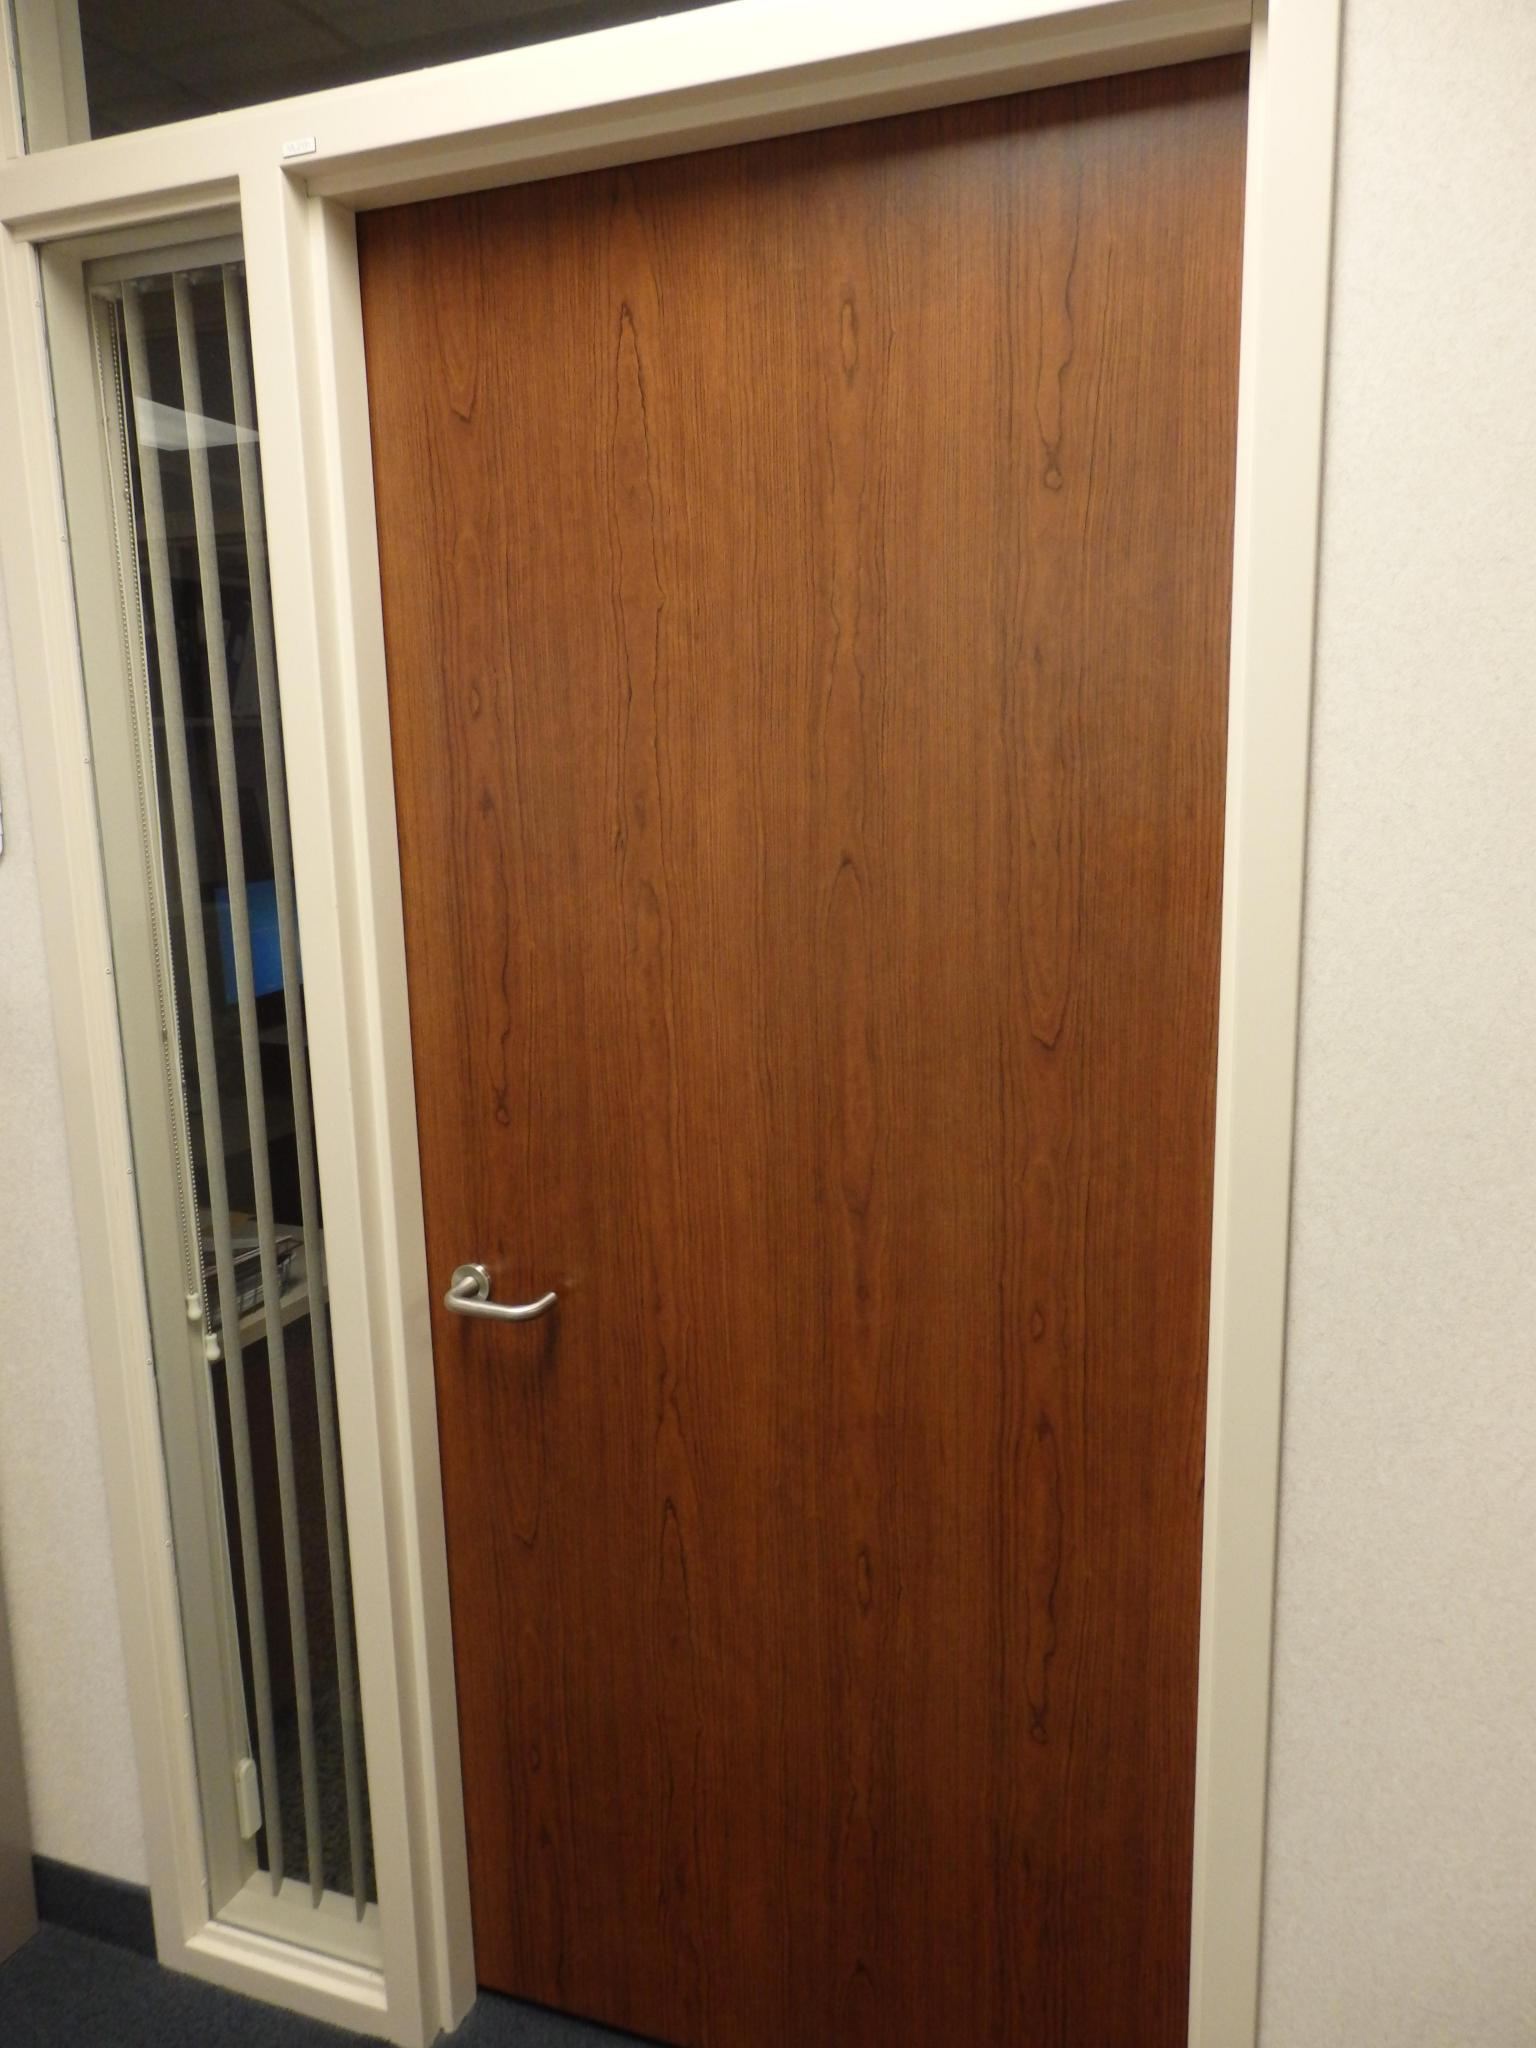door: (434, 271, 1181, 2048)
handle: (452, 1237, 561, 1372)
